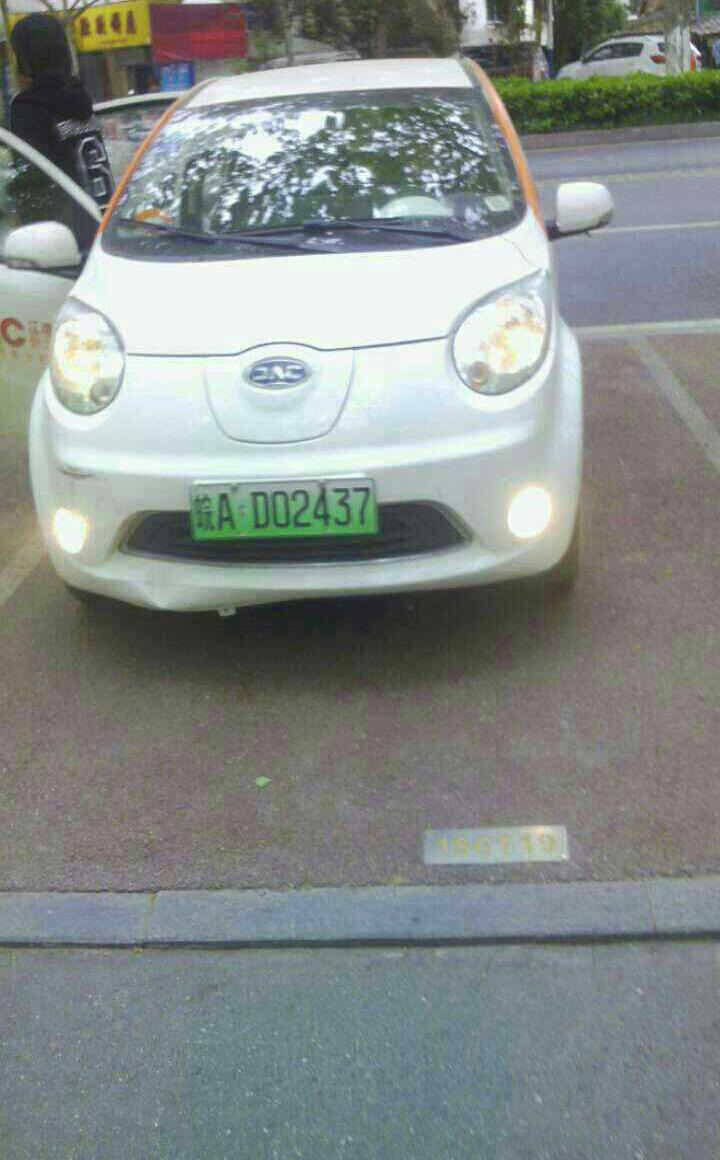car: (180, 489, 380, 535)
